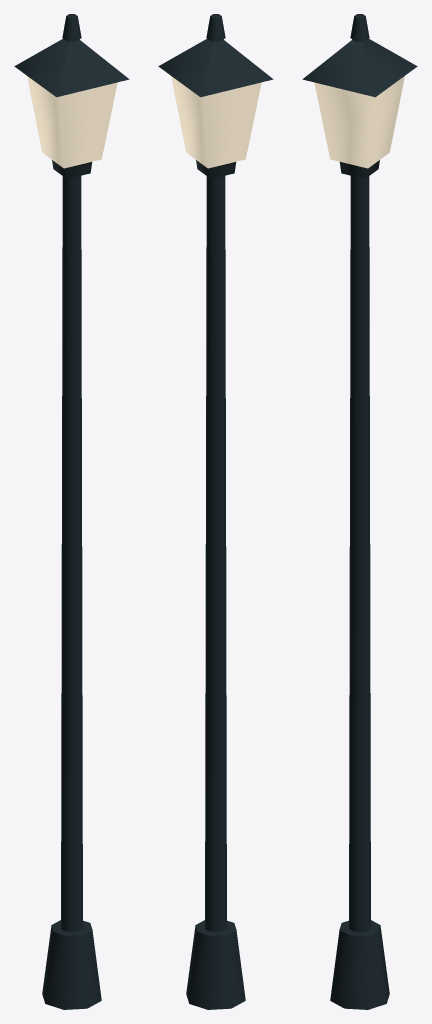
The model's file is lamp-post.glb.
3 renders of one model, left to right at view 1: azimuth 30°, elevation 25°; view 2: azimuth 210°, elevation 25°; view 3: azimuth 330°, elevation 25°, orthographic.
Visible parts, largest first — view 1: lamp-post; view 2: lamp-post; view 3: lamp-post.
Boxes of the visible parts, bbox=[...] form: lamp-post: bbox=[14, 14, 129, 1009]; lamp-post: bbox=[158, 14, 273, 1009]; lamp-post: bbox=[302, 14, 417, 1009].
Bounding box in the file's own units: 0.8768 × 11.23 × 0.8768.
